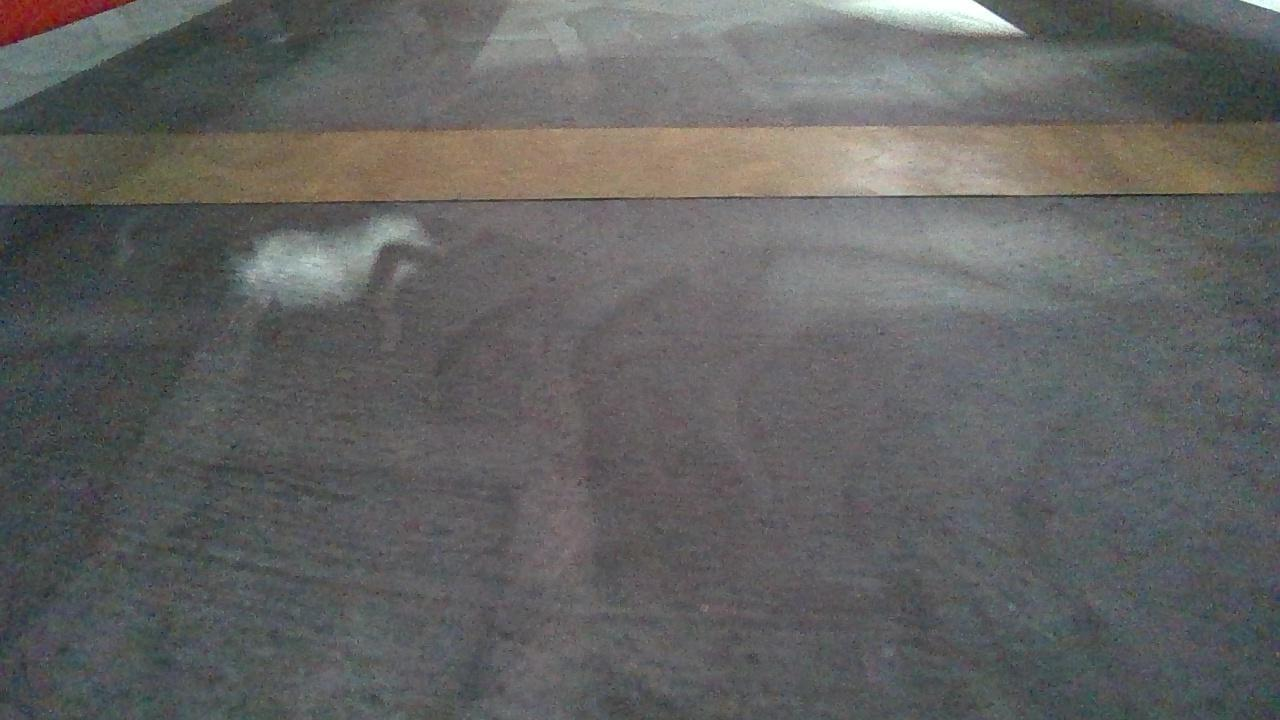yellow_line: (6, 118, 1280, 203)
